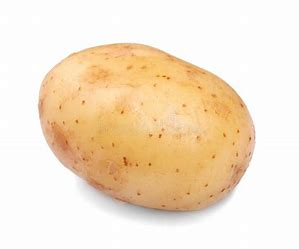Potato: (33, 39, 258, 220)
